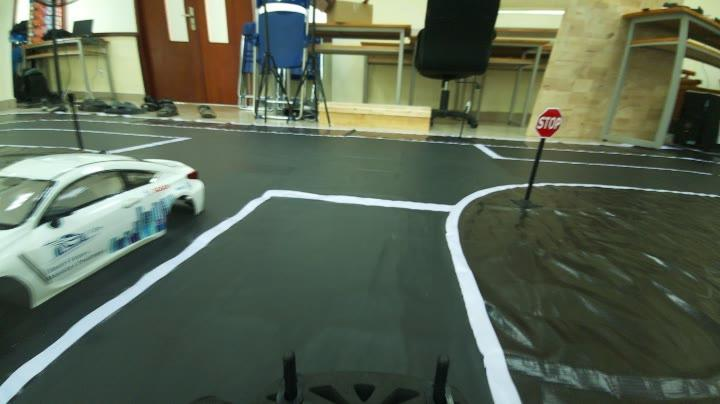car: (0, 127, 207, 352)
stop: (529, 98, 566, 136)
